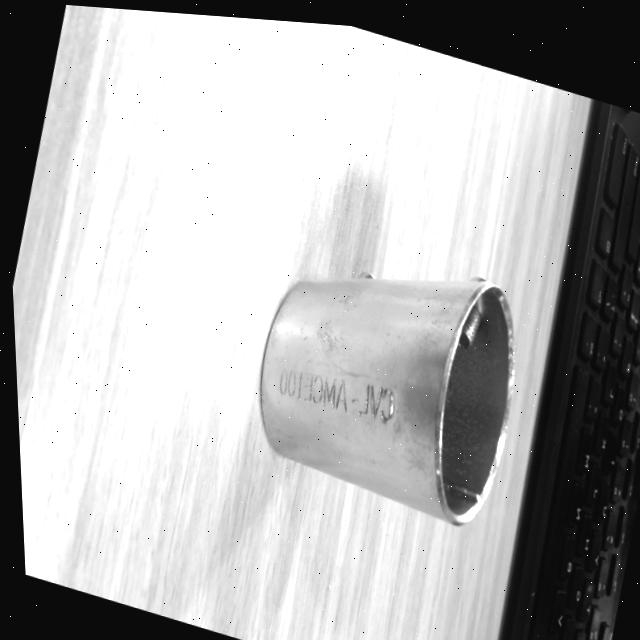Co_Nho: (243, 245, 529, 529)
